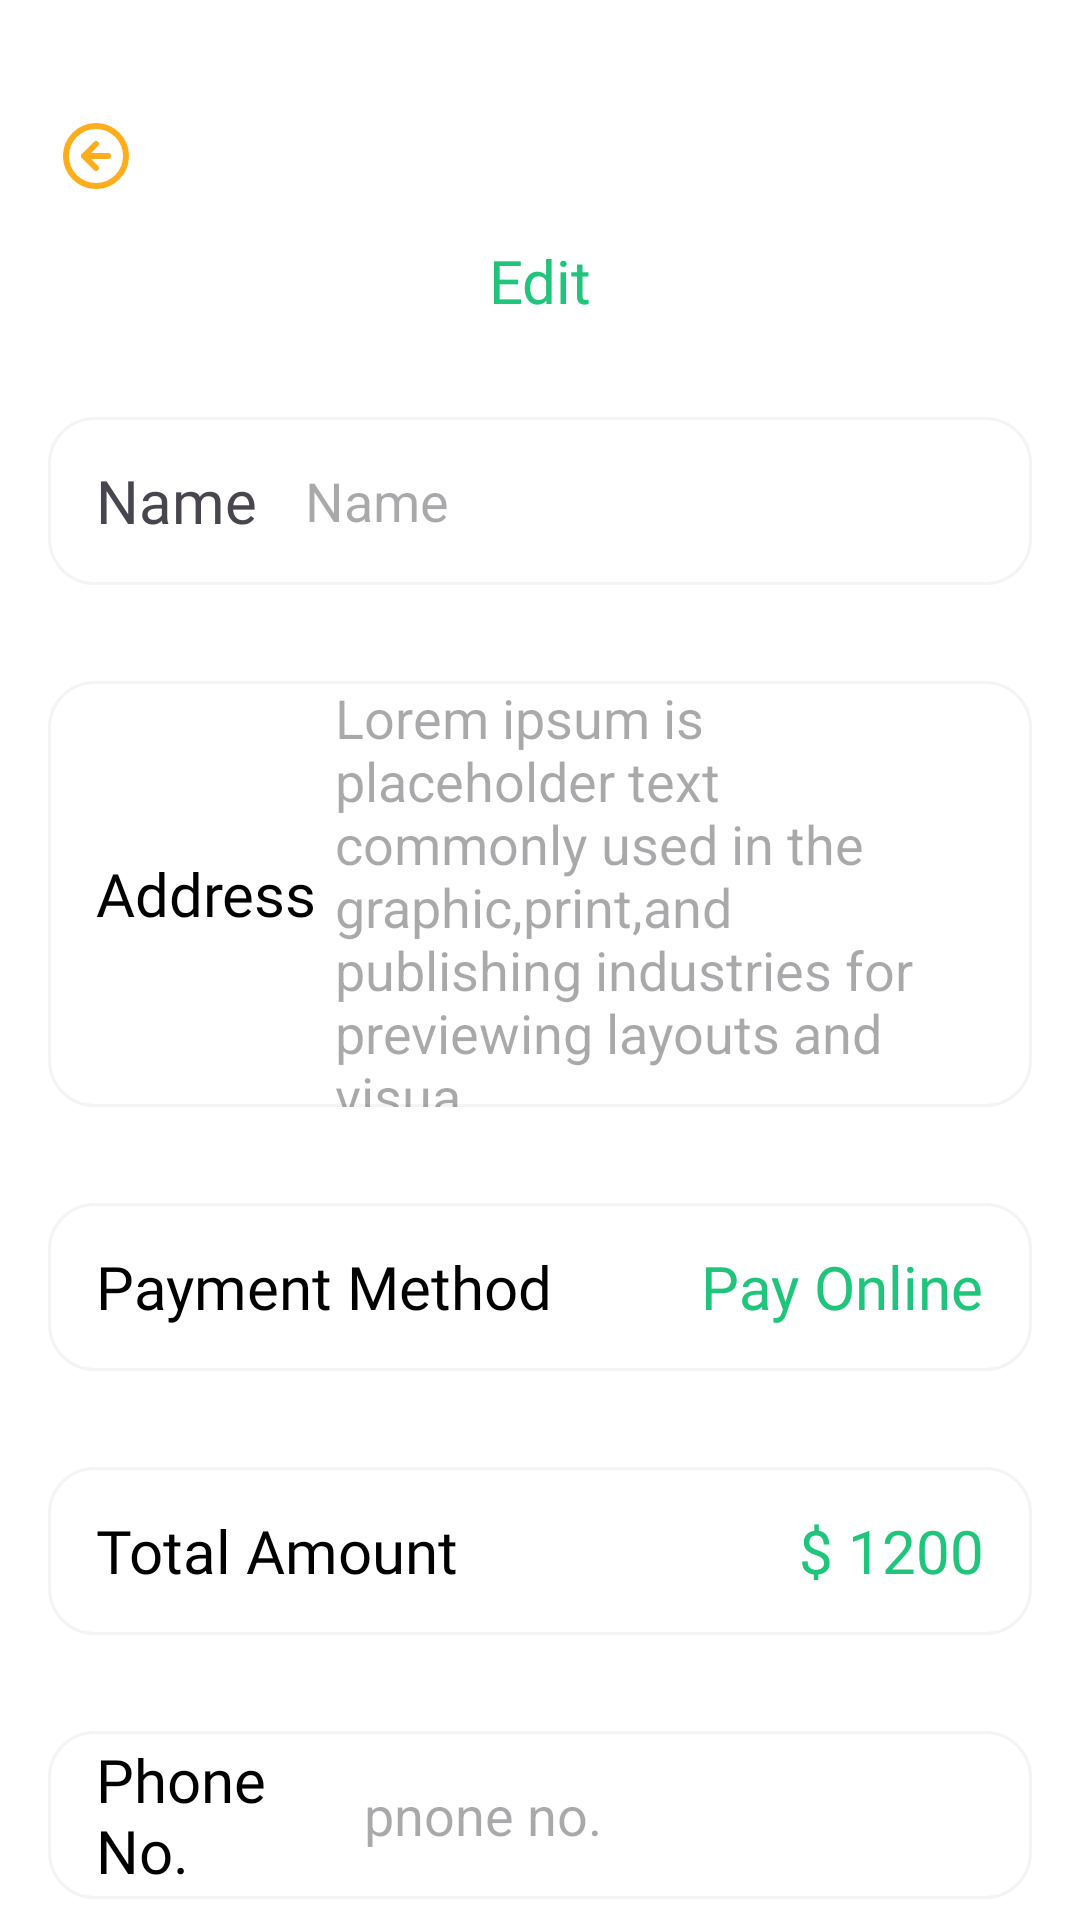

Point at icon controls on the screen. Image size 1080 x 1920, points as point (x, y).
arrow circle left: point (96, 156)
